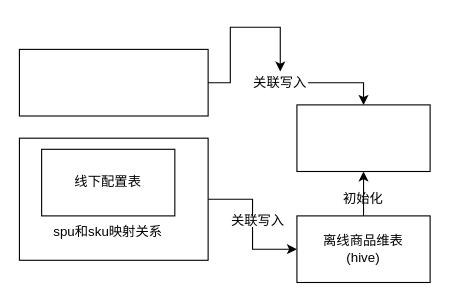
The diagram is 450 pixels wide and 302 high, and some of its shapes have lost their labels. The centre of each missing label's shape, as x and y in pixels:
"实时商品维表 (hbase)" goes at pixel 363 137.
"实时商品表 (kafka)" goes at pixel 113 82.
